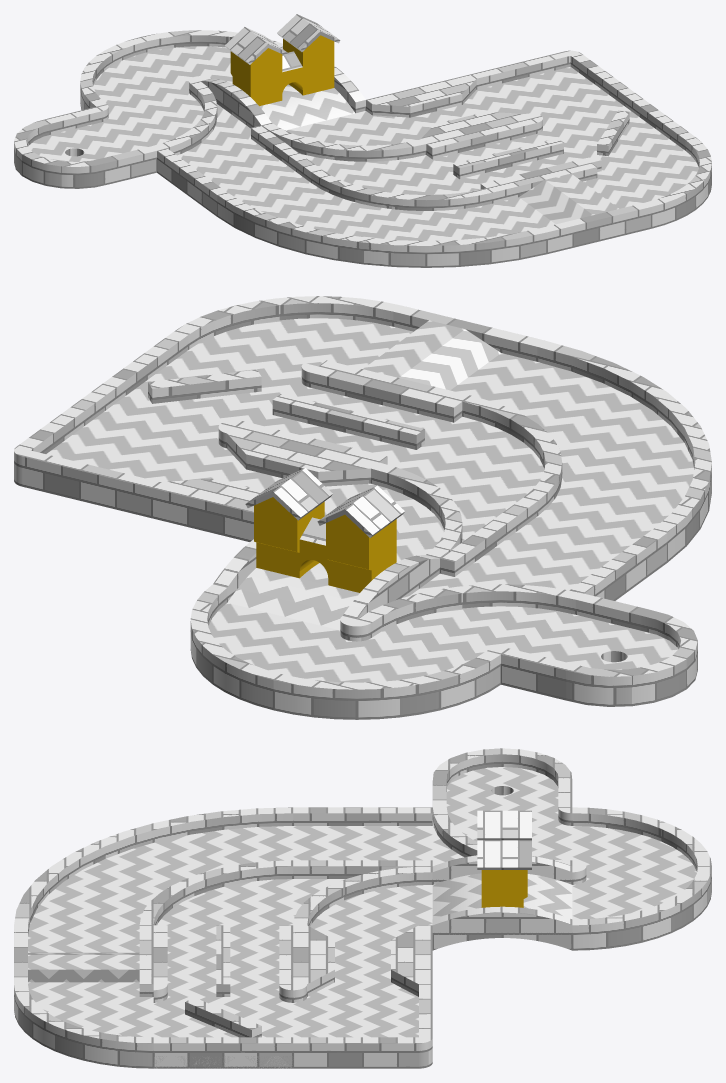
File: kaczy_poziom.fbx
The picture shows the model from 3 angles, top to bottom: view 1: azimuth 30°, elevation 25°; view 2: azimuth 150°, elevation 25°; view 3: azimuth 270°, elevation 25°; orthographic projection. The views are drawn at different scales.
Parts seen in each view (by area): view 1: mergedBlocks; view 2: mergedBlocks; view 3: mergedBlocks.
Boxes of the visible parts, x1,y1,x2,y2 form: mergedBlocks: (14,14,711,267); mergedBlocks: (14,296,711,719); mergedBlocks: (14,748,711,1068).
Size of the model in its own units: 50 by 7.56 by 50.
3 materials, 2 textured.
